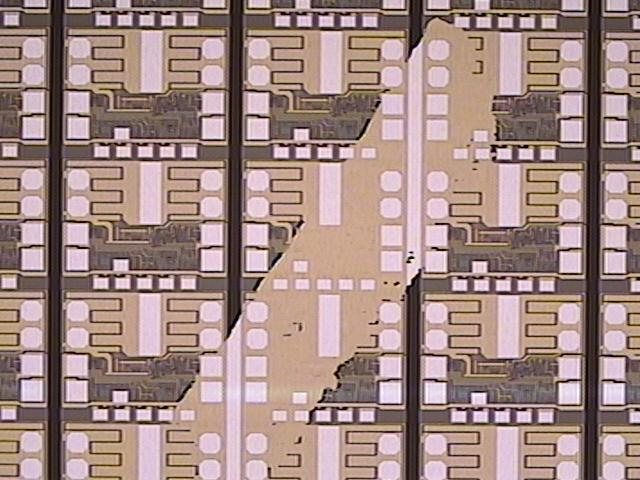BLOCK ETCH: (123, 19, 502, 480)
